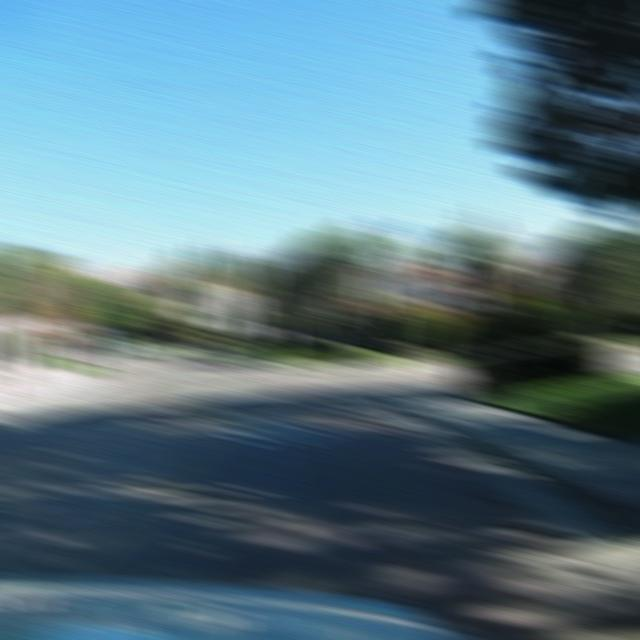stop: (474, 261, 518, 304)
